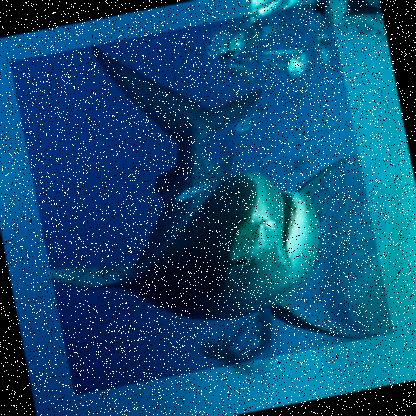tiger-shark: (9, 0, 395, 396)
